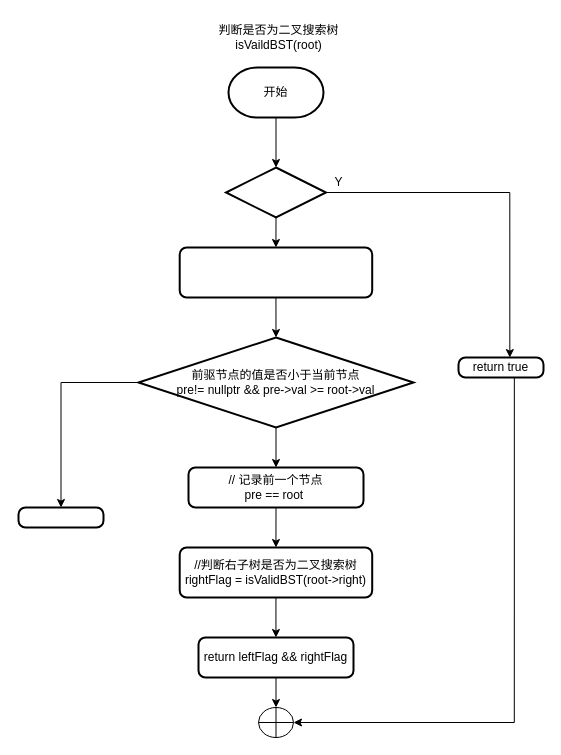
Some shapes in this 561 by 755 pixel diagram are drawn without their labels. Each missing label, with the centre of its shape:
"//判断左子树是否为二叉搜索树 leftFlag = isValidBST(root->left)" goes at [275,272].
"return false" goes at [60,517].
"root == nullptr" goes at [275,192].
